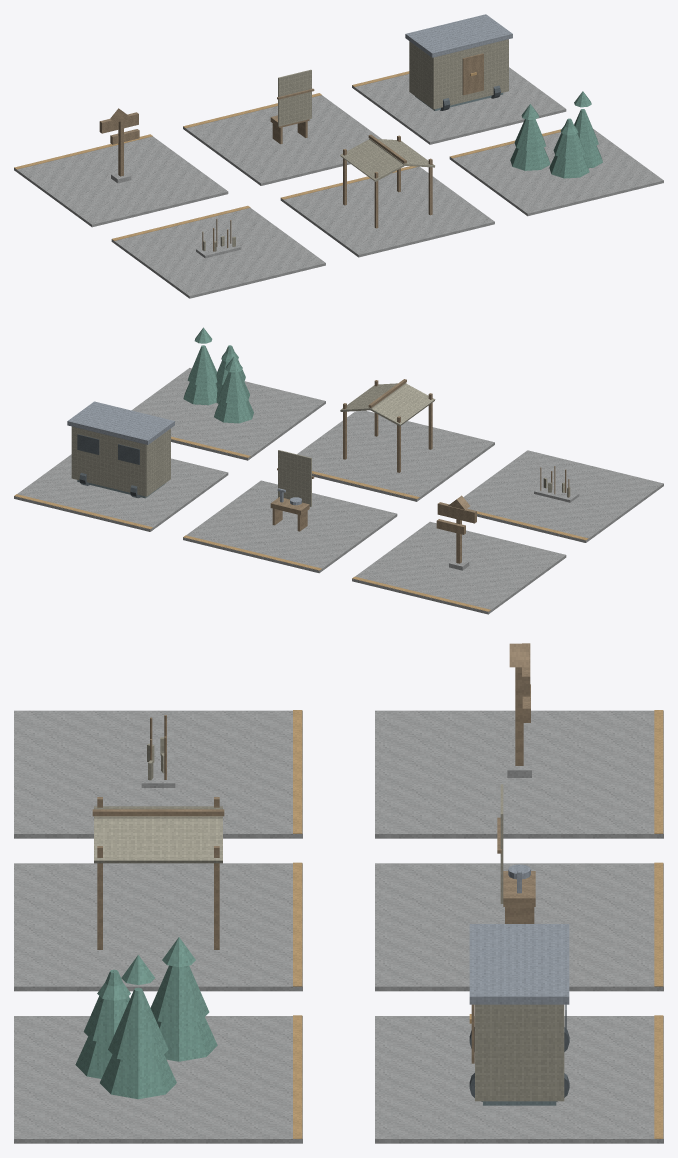
Rendered from level_blockout_kit_wld_02_p03.glb.
3 views of the same model, one above another, from view 1: azimuth 30°, elevation 25°; view 2: azimuth 150°, elevation 25°; view 3: azimuth 270°, elevation 25° (orthographic). The views are drawn at different scales.
Parts seen in each view (by area): view 1: level_blockout_kit_wld_02_p03; view 2: level_blockout_kit_wld_02_p03; view 3: level_blockout_kit_wld_02_p03.
Part boxes in pixels (x1,y1,x2,y2): level_blockout_kit_wld_02_p03: (14, 14, 663, 298); level_blockout_kit_wld_02_p03: (14, 327, 663, 614); level_blockout_kit_wld_02_p03: (14, 643, 663, 1143).
Size of the model in its own units: 19.65 by 3.13 by 12.6.
8 materials, 8 textured.
